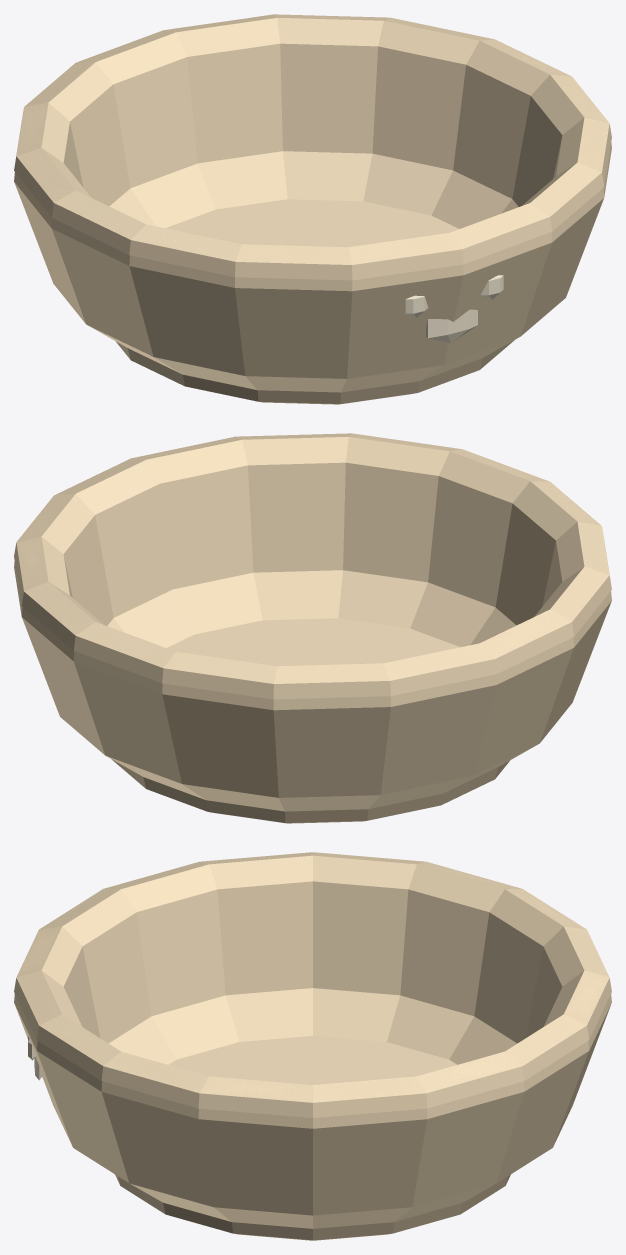
Rendered from crafted-cat-water-3-0.glb.
3 views of the same model, one above another, from view 1: azimuth 30°, elevation 25°; view 2: azimuth 150°, elevation 25°; view 3: azimuth 270°, elevation 25° (orthographic).
Visible parts, largest first — view 1: ceramic-bowl, glazed-rim, foot-ring, paw-pad; view 2: ceramic-bowl, glazed-rim, foot-ring; view 3: ceramic-bowl, glazed-rim, foot-ring.
Part boxes in pixels (x1,y1,x2,y2): ceramic-bowl: (14,14,611,392); glazed-rim: (14,14,611,280); foot-ring: (116,340,514,404); paw-pad: (426,309,477,343); ceramic-bowl: (14,433,611,811); glazed-rim: (14,433,611,699); foot-ring: (111,759,509,823); ceramic-bowl: (14,852,611,1228); glazed-rim: (14,852,611,1117); foot-ring: (115,1174,510,1240).
Bounding box in the file's own units: 0.76 × 0.265 × 0.76.
